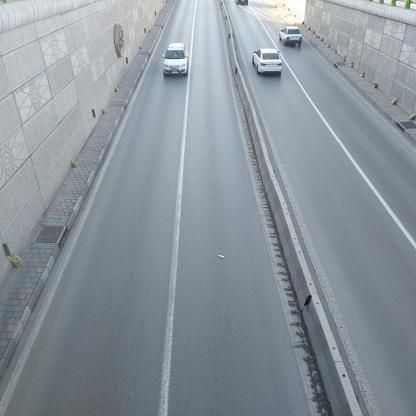Car: (251, 46, 284, 78), (164, 42, 192, 78), (274, 21, 303, 47)
